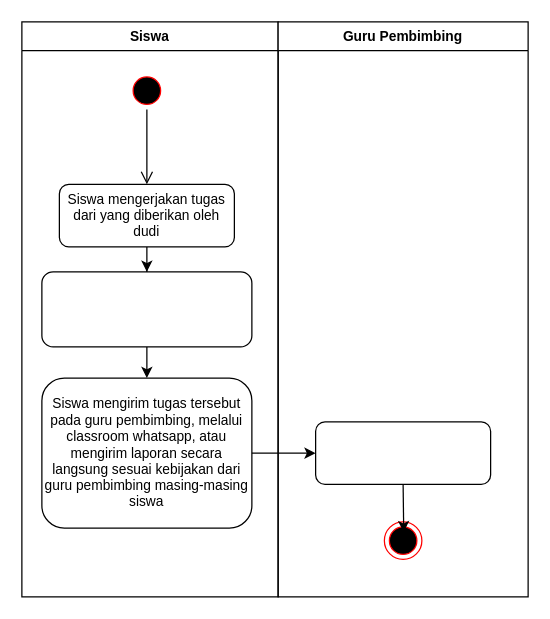
The diagram is 550 pixels wide and 619 high, and some of its shapes have lost their labels. Each missing label, with the centre of its shape:
Menerima tugas dari siswa: point 402,452
Siswa mencatat, membuat laporan atau mendokumentasikan tuags tersebut: point 146,309
